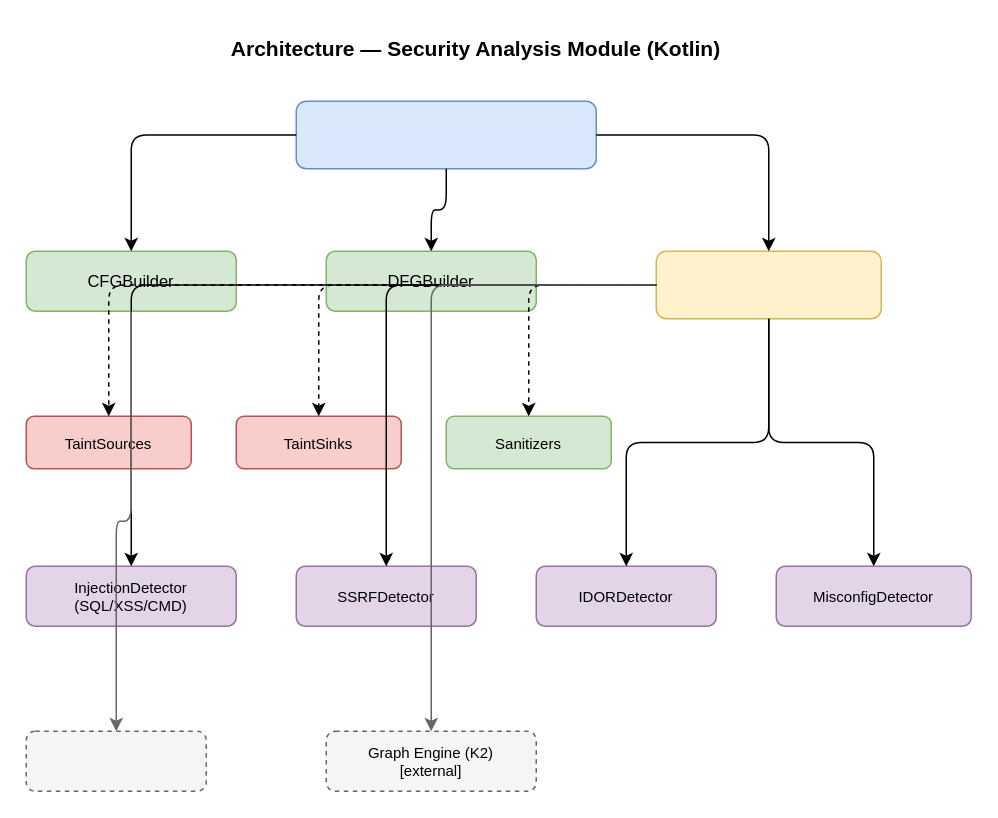
This 998x818 diagram has some shape labels left out. The centre of each missing label's shape, as x and y in pixels:
Parser (K1) [external]: (115,760)
SecurityAnalyzerFacade (Public API): (445,134)
TaintAnalyzer (Core Engine): (768,284)
